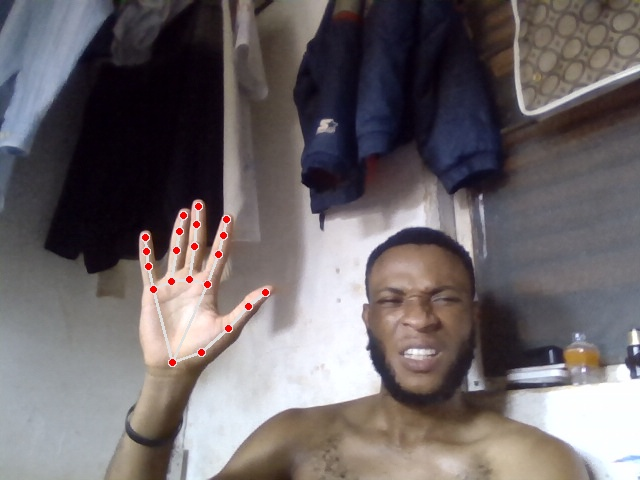no: (138, 197, 278, 374)
